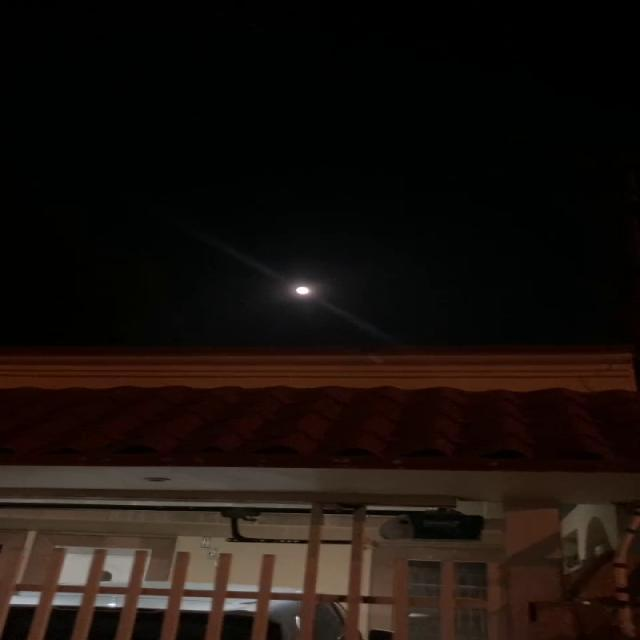moon: (286, 265, 320, 313)
